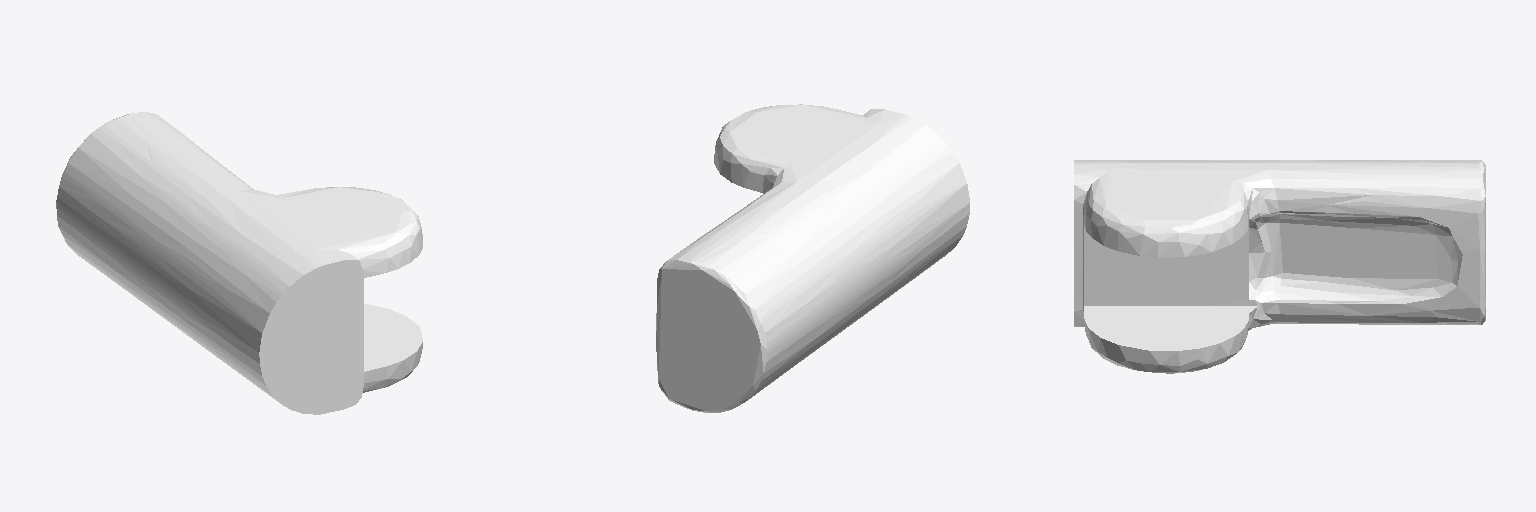
File: shoulder_pan.obj
3 renders of one model, left to right at view 1: azimuth 30°, elevation 25°; view 2: azimuth 150°, elevation 25°; view 3: azimuth 270°, elevation 25°, orthographic.
Size of the model in its own units: 3.54 by 2.54 by 6.33.